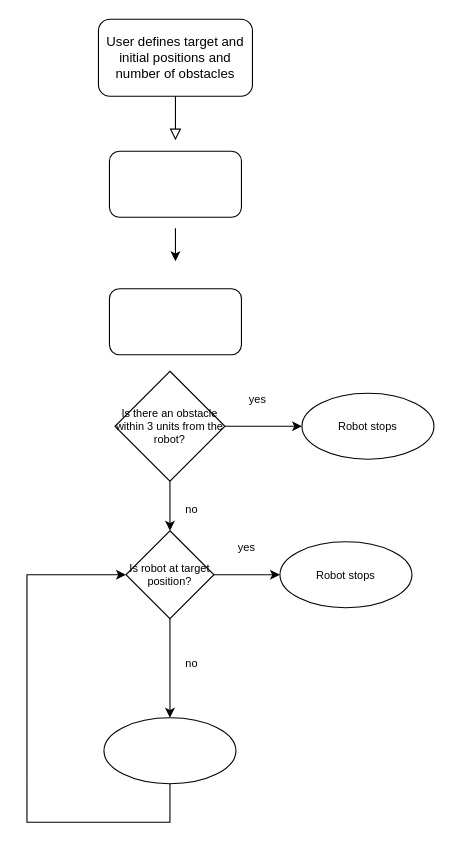
Some shapes in this 453 by 850 pixel diagram are drawn without their labels. Each missing label, with the centre of its shape:
Map is created: the point at 174,183
move towards target: the point at 169,750
Sensor identifies positions of obstacles: the point at 174,321
